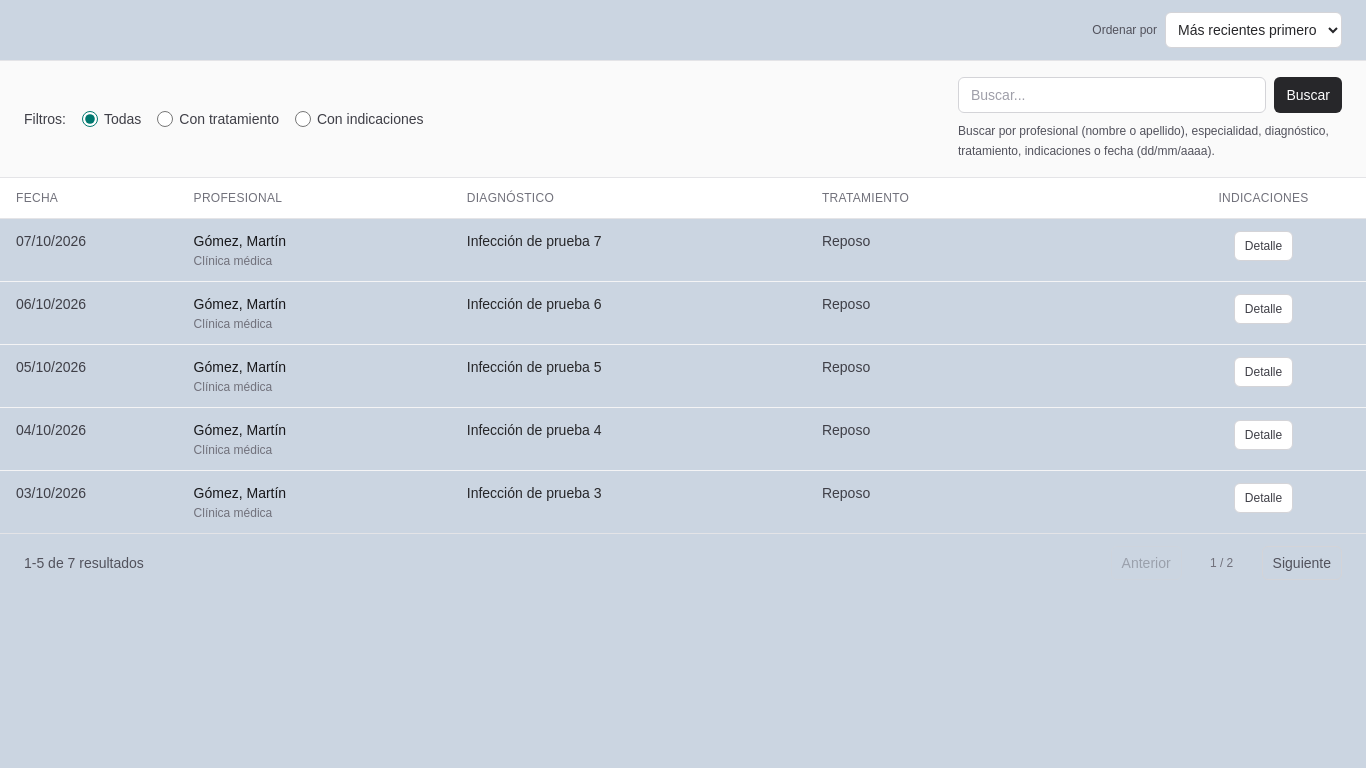
Test: SIG-BUG-02: resultados de búsqueda del historial › cambiar filtro también vuelve a página 1
This screenshot has width=1366, height=768.
Click the button "Siguiente".
click(1302, 563)  # box [1262,546,1342,580]
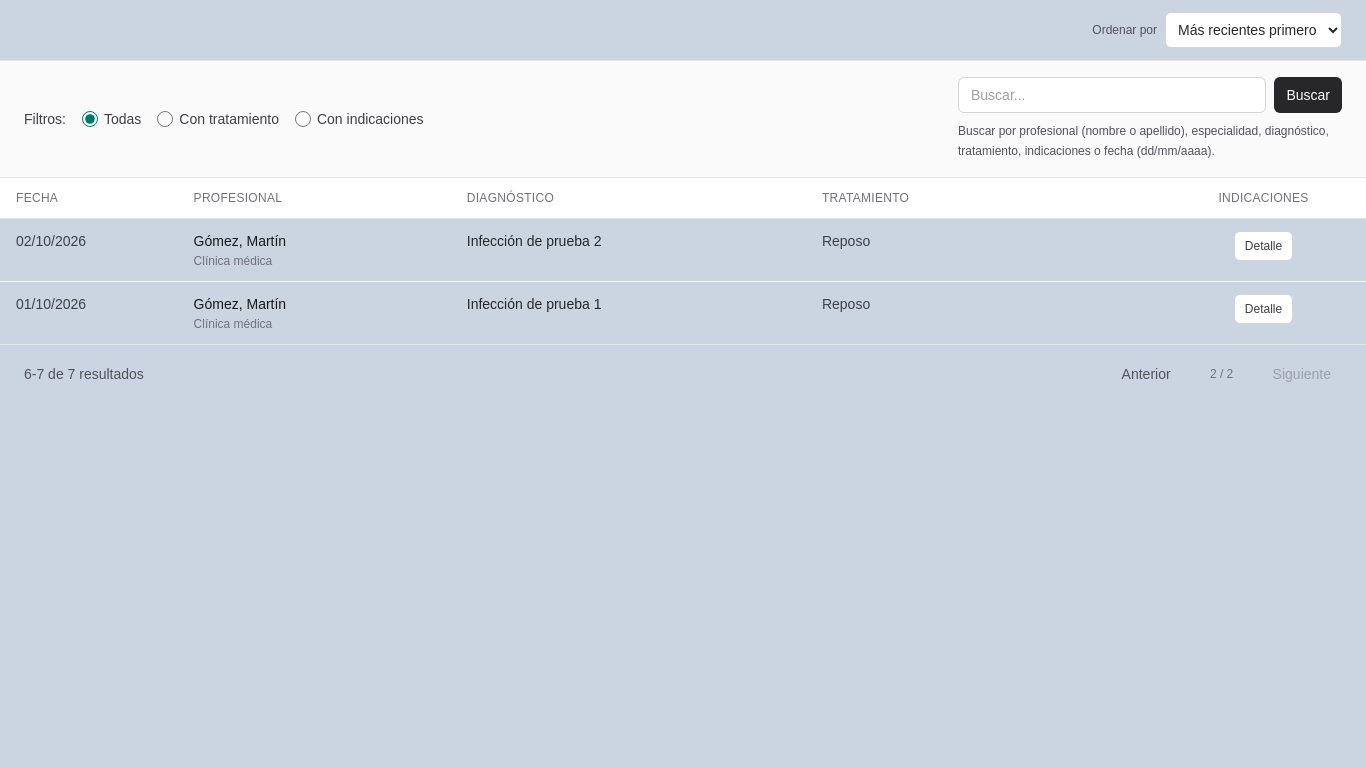
Click the radio button labelled "Con tratamiento".
click(165, 119)  # box [157,111,173,127]
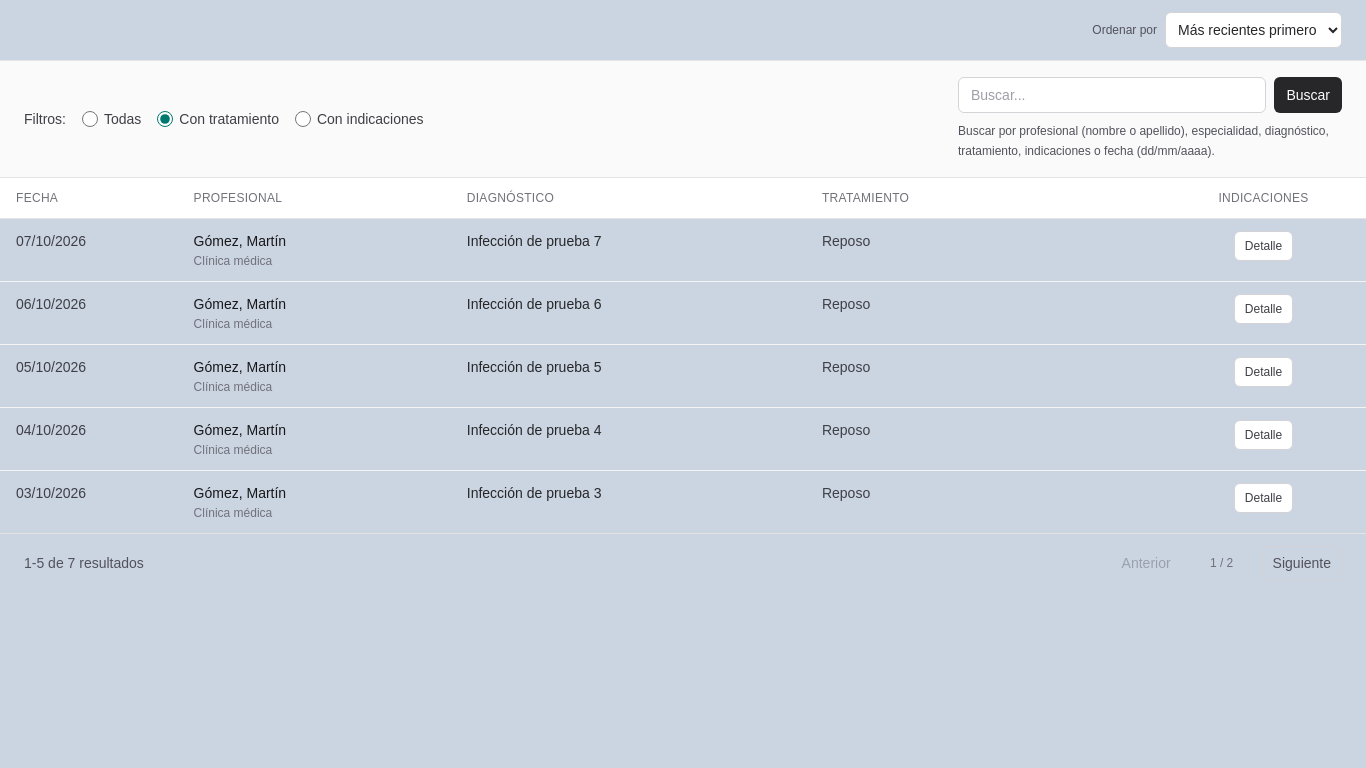
Result: the text "1 / 2" is shown at [1210,556,1233,570]
Result: the text "1-5 de 7 resultados" is shown at [24,553,144,573]
